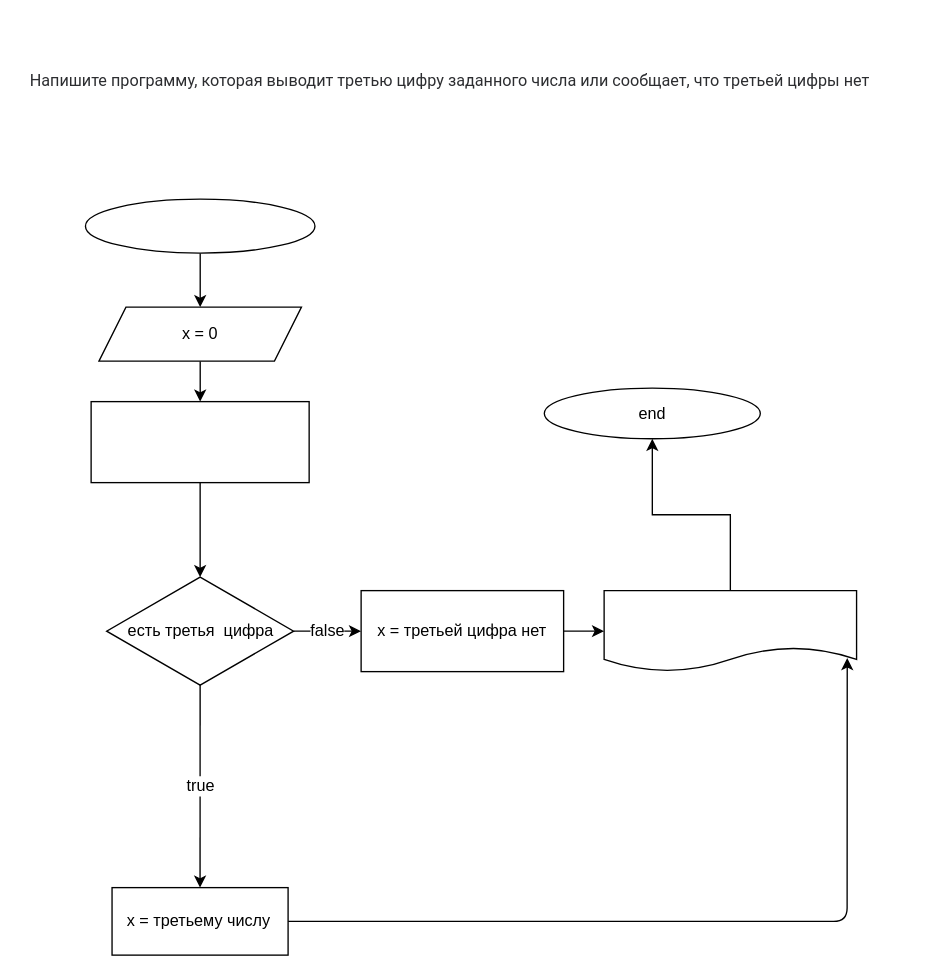
Image size: 950x979. Some labels were removed from this diagram. The shapes that lost their labels are listed below. From the top down, each one's centre as x and y in pixels, then its label:
(x=199, y=225): start
(x=199, y=441): ввести трехзначное число
(x=730, y=630): print x
